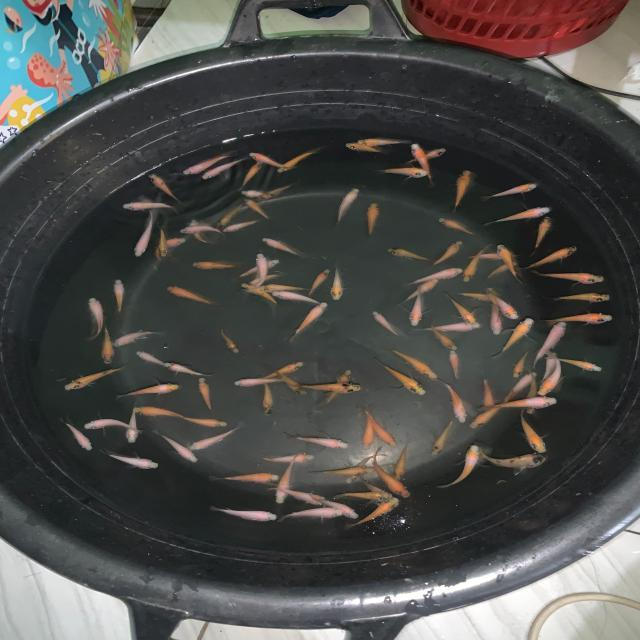nila: (371, 448, 413, 499), (528, 320, 570, 369), (376, 359, 429, 397), (439, 444, 484, 488), (384, 347, 440, 382), (492, 317, 536, 359), (286, 301, 332, 341), (62, 364, 126, 392), (183, 424, 244, 452), (348, 498, 401, 530), (518, 244, 578, 272), (272, 454, 304, 504), (485, 204, 554, 227), (156, 430, 200, 465), (476, 450, 550, 470), (285, 430, 349, 452), (470, 398, 514, 430), (148, 172, 186, 208), (164, 285, 222, 308), (366, 409, 400, 447), (460, 244, 492, 284), (268, 364, 308, 396), (530, 270, 609, 286), (486, 285, 522, 320), (322, 368, 355, 406), (482, 395, 560, 411), (200, 155, 248, 181), (441, 379, 468, 425), (57, 419, 94, 452), (102, 450, 163, 470), (346, 452, 384, 484), (210, 506, 291, 521), (115, 382, 182, 400), (132, 210, 156, 260), (314, 493, 360, 519), (180, 153, 232, 176), (278, 506, 344, 524), (520, 410, 547, 454), (502, 370, 538, 403), (398, 278, 440, 306), (273, 486, 331, 506), (544, 312, 616, 328), (537, 351, 561, 398), (449, 169, 474, 213), (498, 244, 524, 286), (278, 148, 320, 174), (234, 257, 280, 280), (135, 350, 181, 373), (446, 293, 478, 326), (526, 215, 553, 254), (406, 266, 464, 284), (428, 239, 464, 268), (482, 182, 538, 200), (212, 202, 248, 230), (240, 282, 278, 308), (112, 329, 164, 348), (410, 143, 434, 184), (270, 288, 324, 306), (336, 186, 360, 226), (237, 158, 269, 188), (80, 419, 143, 434), (154, 237, 189, 264), (259, 360, 306, 380), (262, 238, 306, 259), (130, 404, 187, 420), (249, 150, 294, 170), (371, 310, 403, 338), (207, 472, 281, 484), (430, 421, 454, 458), (178, 412, 230, 429), (413, 321, 486, 333), (358, 406, 378, 449), (304, 268, 332, 298), (194, 376, 216, 414), (403, 146, 449, 164), (360, 476, 394, 500), (294, 382, 362, 394), (438, 216, 478, 236), (251, 250, 270, 292), (87, 298, 105, 342), (163, 361, 214, 376), (256, 182, 296, 201), (333, 491, 396, 503), (432, 324, 459, 352), (100, 323, 118, 365), (120, 201, 182, 213), (305, 466, 379, 476), (392, 440, 410, 480), (256, 452, 316, 464), (559, 357, 604, 373), (408, 288, 426, 328), (242, 196, 272, 220), (258, 282, 318, 294), (230, 376, 290, 388), (536, 352, 558, 384), (386, 246, 429, 262), (363, 202, 382, 238), (550, 291, 612, 302), (186, 219, 213, 244), (486, 261, 518, 282), (376, 167, 432, 179), (127, 401, 142, 444), (328, 264, 345, 301), (525, 372, 539, 416), (112, 278, 128, 316), (220, 325, 240, 355), (177, 224, 227, 236), (222, 219, 262, 234), (456, 290, 498, 304), (512, 349, 532, 378), (262, 372, 274, 418), (190, 260, 240, 271), (344, 142, 386, 155), (247, 272, 286, 286), (482, 376, 495, 416), (355, 138, 417, 146), (489, 304, 504, 336), (157, 227, 170, 260), (466, 252, 513, 261), (488, 284, 501, 316), (238, 189, 278, 199), (448, 348, 460, 381)
